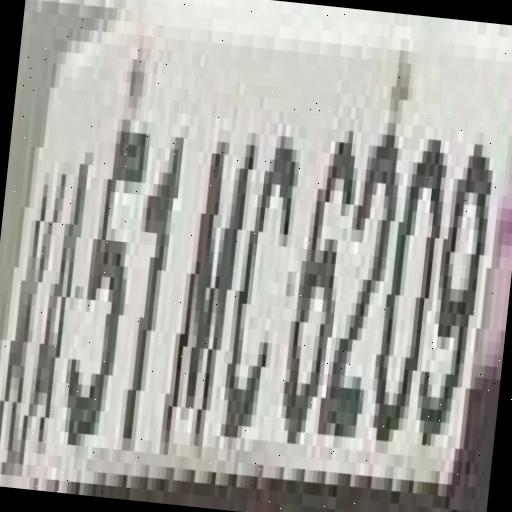number plate: (0, 11, 509, 512)
